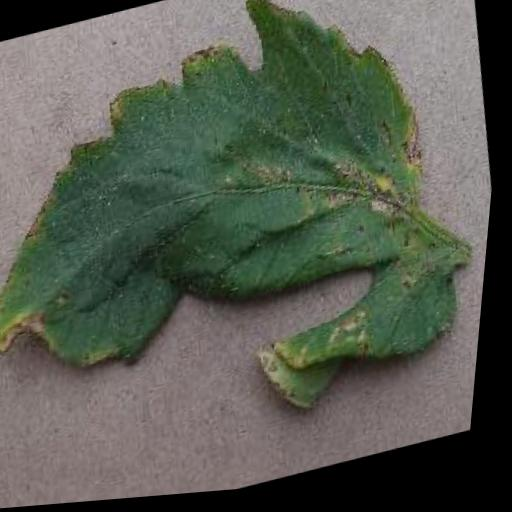Bacterial Spot: (0, 0, 503, 489)
